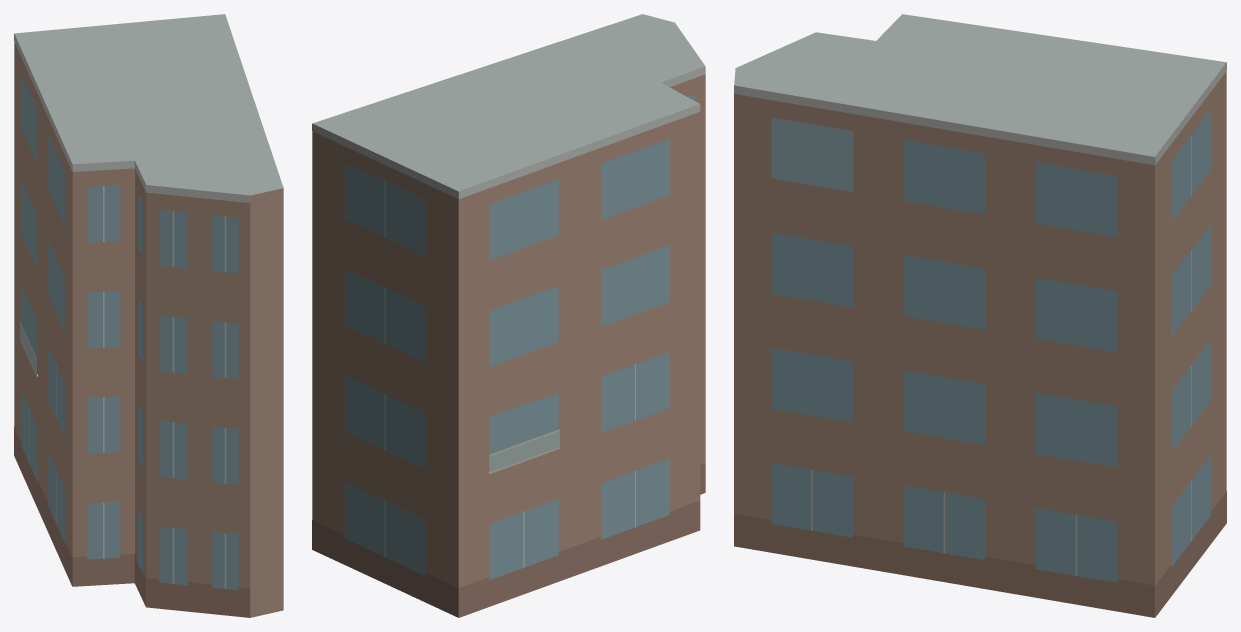
File: survey-upis-32470863.glb
3 renders of one model, left to right at view 1: azimuth 30°, elevation 25°; view 2: azimuth 150°, elevation 25°; view 3: azimuth 270°, elevation 25°, orthographic. The views are drawn at different scales.
Parts seen in each view (by area): view 1: survey-upis-32470863.tmp; view 2: survey-upis-32470863.tmp; view 3: survey-upis-32470863.tmp.
Part boxes in pixels (box(x1,y1,x2,y2)): survey-upis-32470863.tmp: box(14, 14, 283, 617); survey-upis-32470863.tmp: box(312, 14, 705, 617); survey-upis-32470863.tmp: box(734, 14, 1226, 617).
Size of the model in its own units: 8.99 by 13.5 by 13.09.
